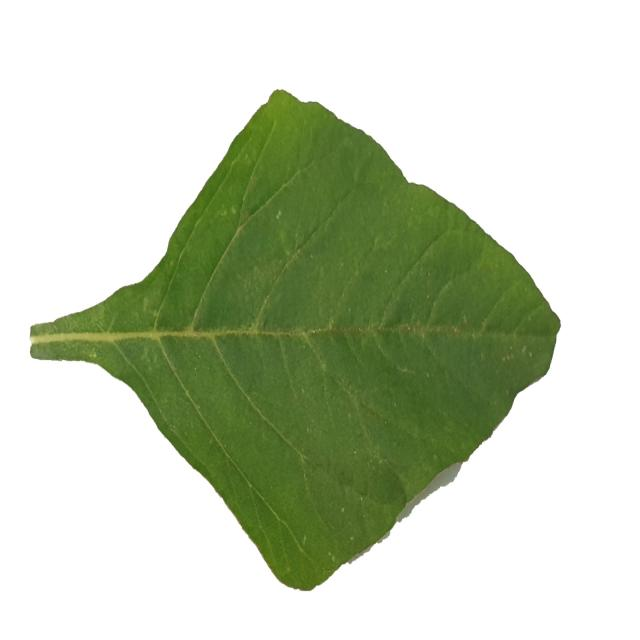Medicinal-Arive Dantu: (31, 87, 562, 592)
